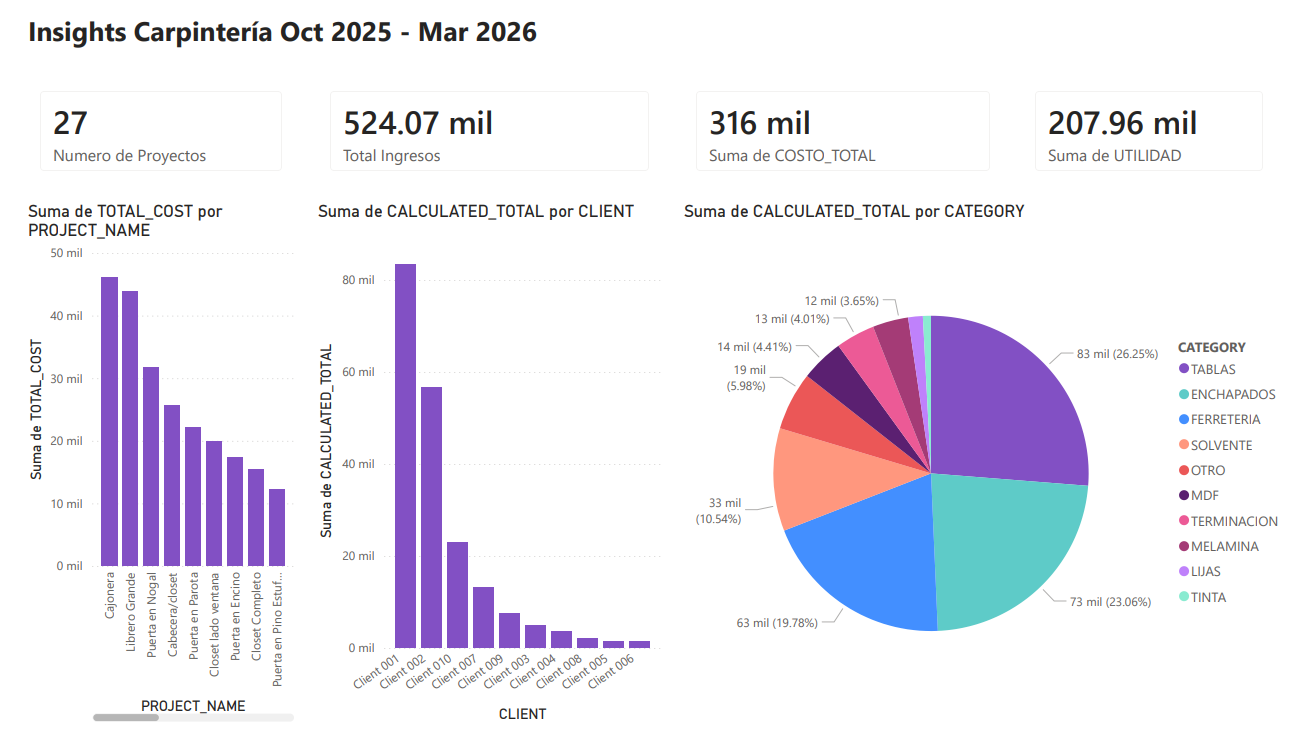

Layout of this report page (visuals, bound fields, positions):
{"tool":"powerbi","page":{"name":"Página 1","canvas":[1280,720],"ordinal":0},"visuals":[{"type":"cardVisual","fields":{"Data":["clean_data (1).Numero de Proyectos"]},"box":[10,67.2,276.2,114.4],"z":0},{"type":"cardVisual","fields":{"Data":["proyectos (1).Total Ingresos"]},"box":[299.8,67.2,353.3,114.4],"z":1000},{"type":"cardVisual","fields":{"Data":["Sum(proyectos (1).COSTO_TOTAL)"]},"box":[665.5,67.2,328.4,114.4],"z":2000},{"type":"cardVisual","fields":{"Data":["Sum(proyectos (1).UTILIDAD)"]},"box":[1005.1,67.2,262.5,114.4],"z":5000},{"type":"textbox","box":[10,0,531.2,54.7],"z":7000},{"type":"pieChart","fields":{"Category":["materials.CATEGORY"],"Y":["Sum(materials.CALCULATED_TOTAL)"]},"box":[665.5,194.1,614.5,526.2],"z":7001},{"type":"clusteredColumnChart","fields":{"Category":["materials.CLIENT"],"Y":["Sum(materials.CALCULATED_TOTAL)"]},"box":[300,194,353,526],"z":7002},{"type":"columnChart","fields":{"Category":["materials.PROJECT_NAME"],"Y":["Sum(materials.TOTAL_COST)"]},"box":[10,194.1,276.2,526.2],"z":7003}]}

Visuals, with their boxes in screenshot pixels (x1, y1, x2, y2), scaled from the page's 1280x720 canvas onto the 1292x730 screenshot:
cardVisual - clean_data (1).Numero de Proyectos: 10 68 289 184
cardVisual - proyectos (1).Total Ingresos: 303 68 659 184
cardVisual - Sum(proyectos (1).COSTO_TOTAL): 672 68 1003 184
cardVisual - Sum(proyectos (1).UTILIDAD): 1015 68 1279 184
textbox: 10 0 546 55
pieChart - materials.CATEGORY x Sum(materials.CALCULATED_TOTAL): 672 197 1291 729
clusteredColumnChart - materials.CLIENT x Sum(materials.CALCULATED_TOTAL): 303 197 659 729
columnChart - materials.PROJECT_NAME x Sum(materials.TOTAL_COST): 10 197 289 729
